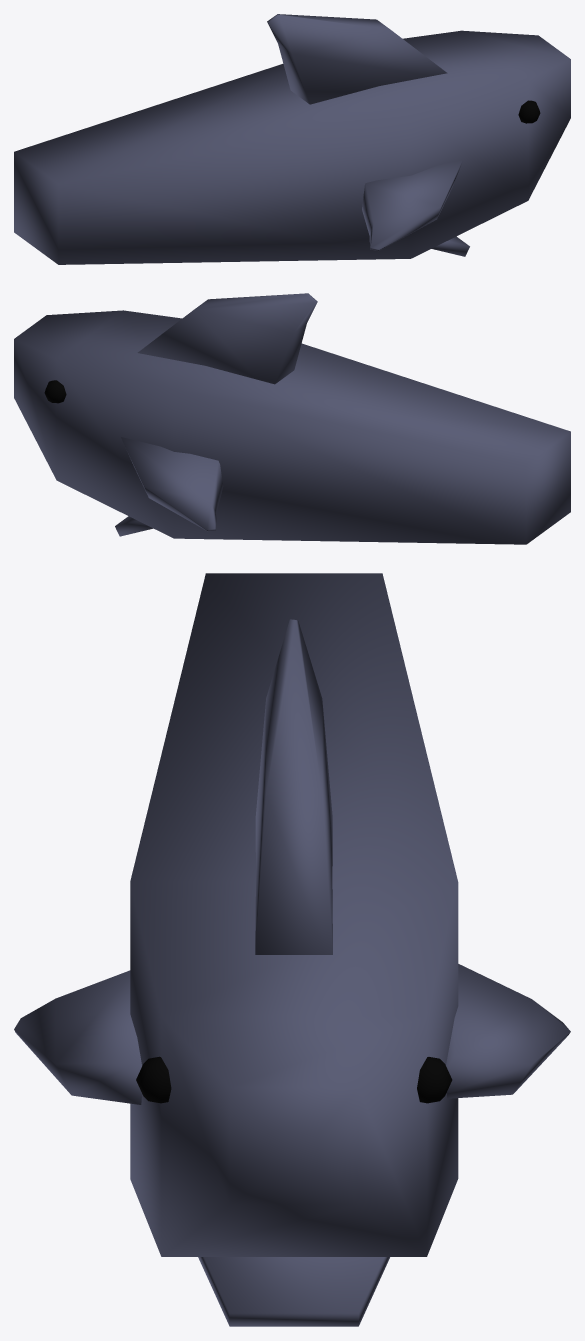
Rendered from shark.glb.
The picture shows the model from 3 angles, top to bottom: view 1: azimuth 30°, elevation 25°; view 2: azimuth 150°, elevation 25°; view 3: azimuth 270°, elevation 25°; orthographic projection. The views are drawn at different scales.
Visible parts, largest first — view 1: shark; view 2: shark; view 3: shark.
Boxes of the visible parts, x1,y1,x2,y2 form: shark: [14, 14, 570, 264]; shark: [14, 293, 570, 544]; shark: [14, 573, 570, 1326].
Size of the model in its own units: 7.39 by 3.64 by 3.4.
